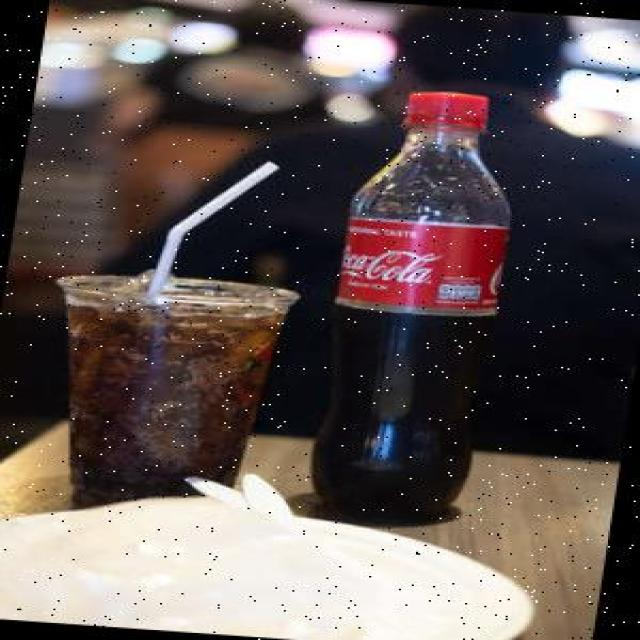coca-cola: (266, 80, 556, 543)
